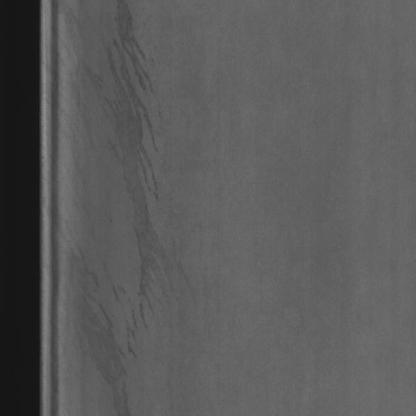water_spot: (103, 4, 175, 354), (58, 238, 126, 410)
